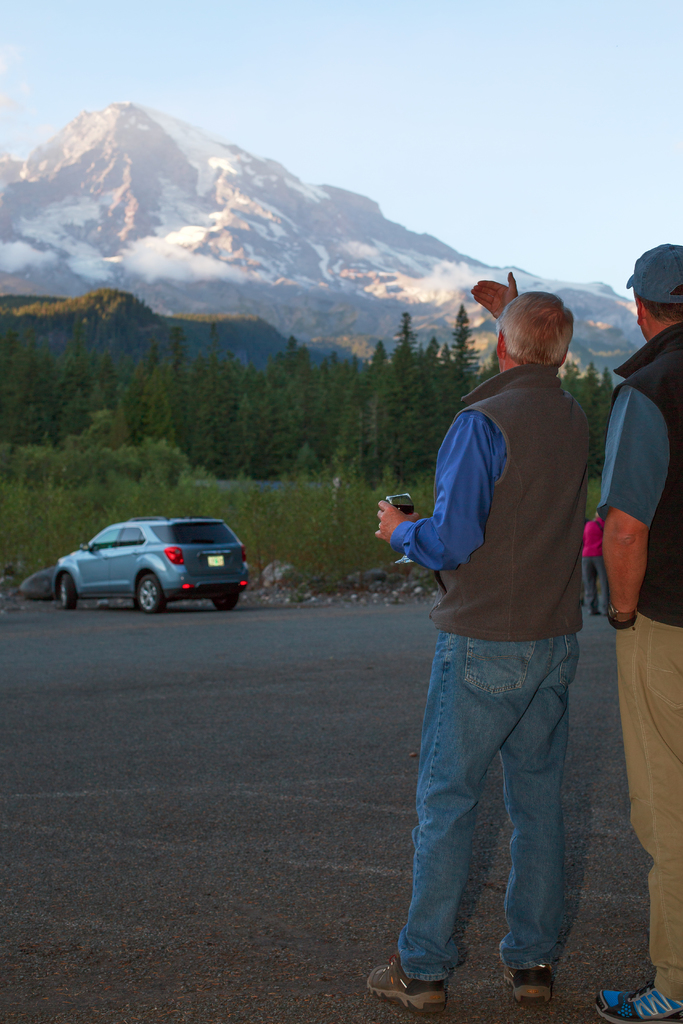Car: (35, 517, 269, 617)
